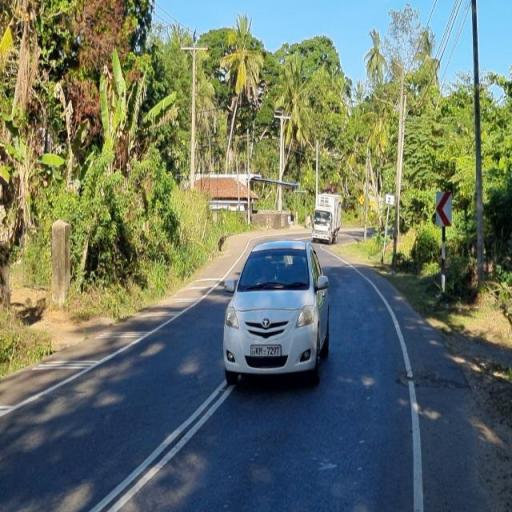double_white_line: (86, 382, 228, 512)
